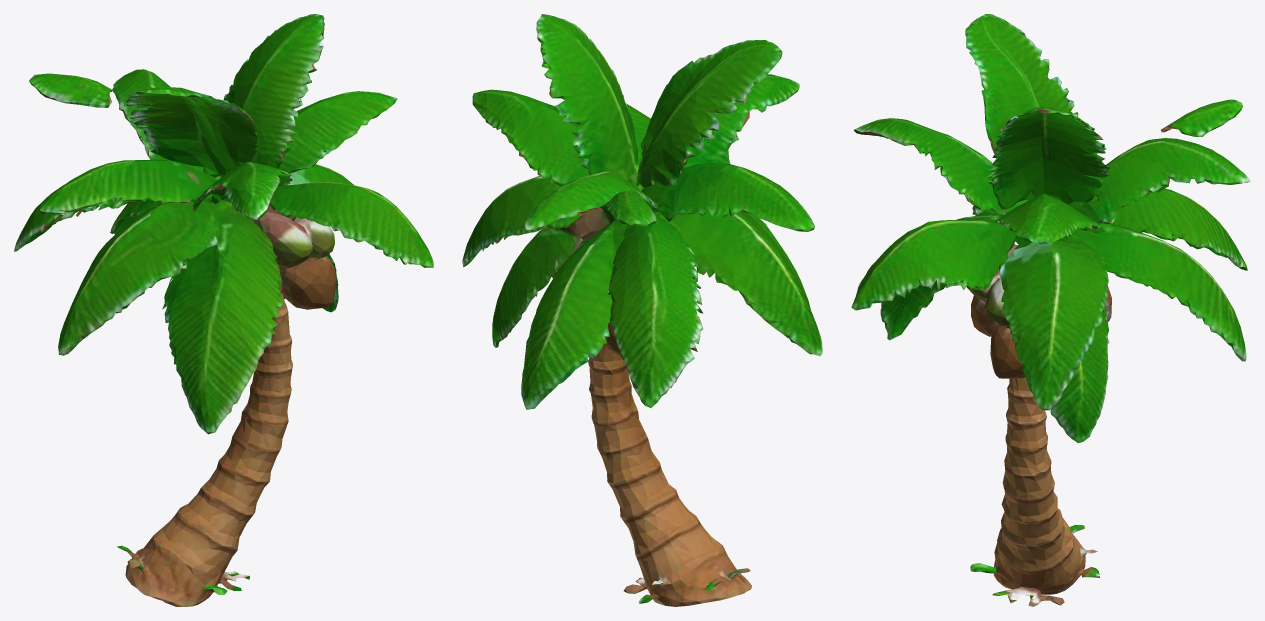
Rendered from palm_tree.glb.
The picture shows the model from 3 angles, left to right: view 1: azimuth 30°, elevation 25°; view 2: azimuth 150°, elevation 25°; view 3: azimuth 270°, elevation 25°; orthographic projection. The views are drawn at different scales.
Visible parts, largest first — view 1: tmp31boai42.ply; view 2: tmp31boai42.ply; view 3: tmp31boai42.ply.
Part boxes in pixels (box(x1,y1,x2,y2)): tmp31boai42.ply: box(14, 14, 433, 606); tmp31boai42.ply: box(462, 14, 822, 606); tmp31boai42.ply: box(851, 14, 1250, 606).
Bounding box in the file's own units: 1.35 × 2 × 1.33.
Materials: 1 (1 with a texture image).
